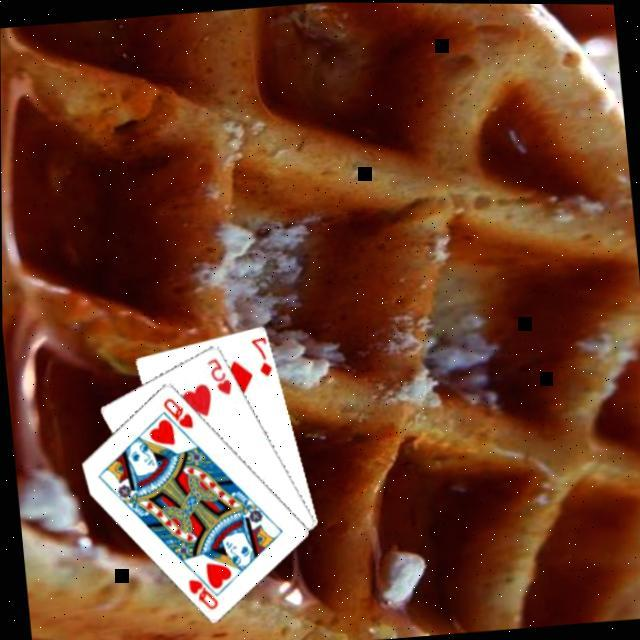5H: (204, 353, 236, 398)
7D: (249, 333, 277, 380)
QH: (185, 564, 223, 614), (160, 393, 197, 432)
